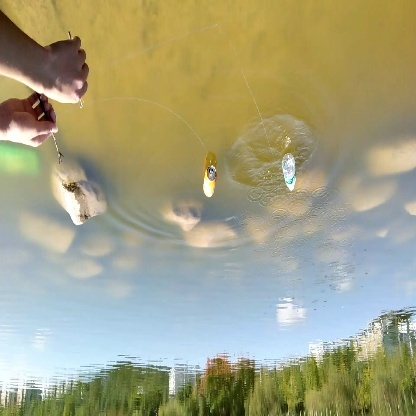bottle: (279, 150, 301, 196), (200, 163, 220, 201)
